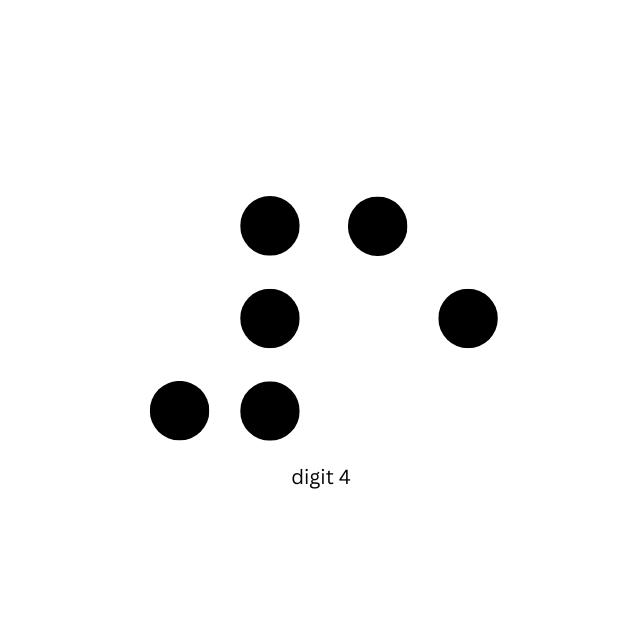digit_5: (346, 195, 499, 439)
number_sign: (150, 195, 301, 442)
